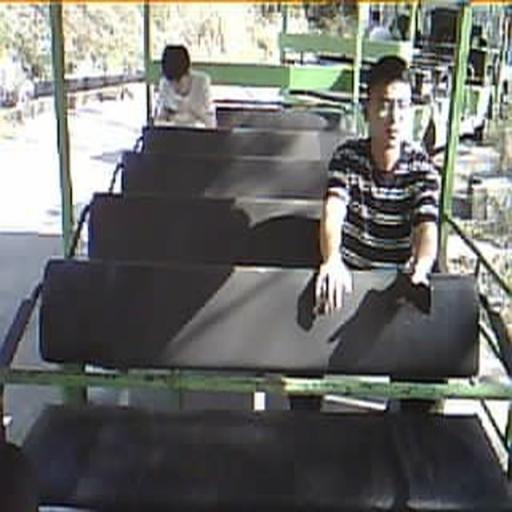persona: (291, 55, 439, 414), (150, 43, 217, 130)
